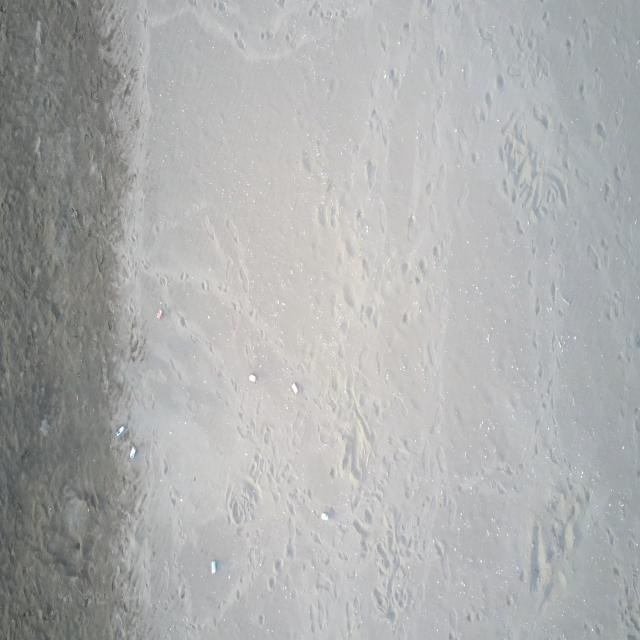tin-and-aluminum-cans: (129, 446, 138, 460), (115, 424, 125, 436), (248, 373, 258, 383), (291, 382, 299, 394), (156, 308, 164, 320), (211, 560, 217, 574), (321, 514, 329, 522), (635, 59, 639, 70)
